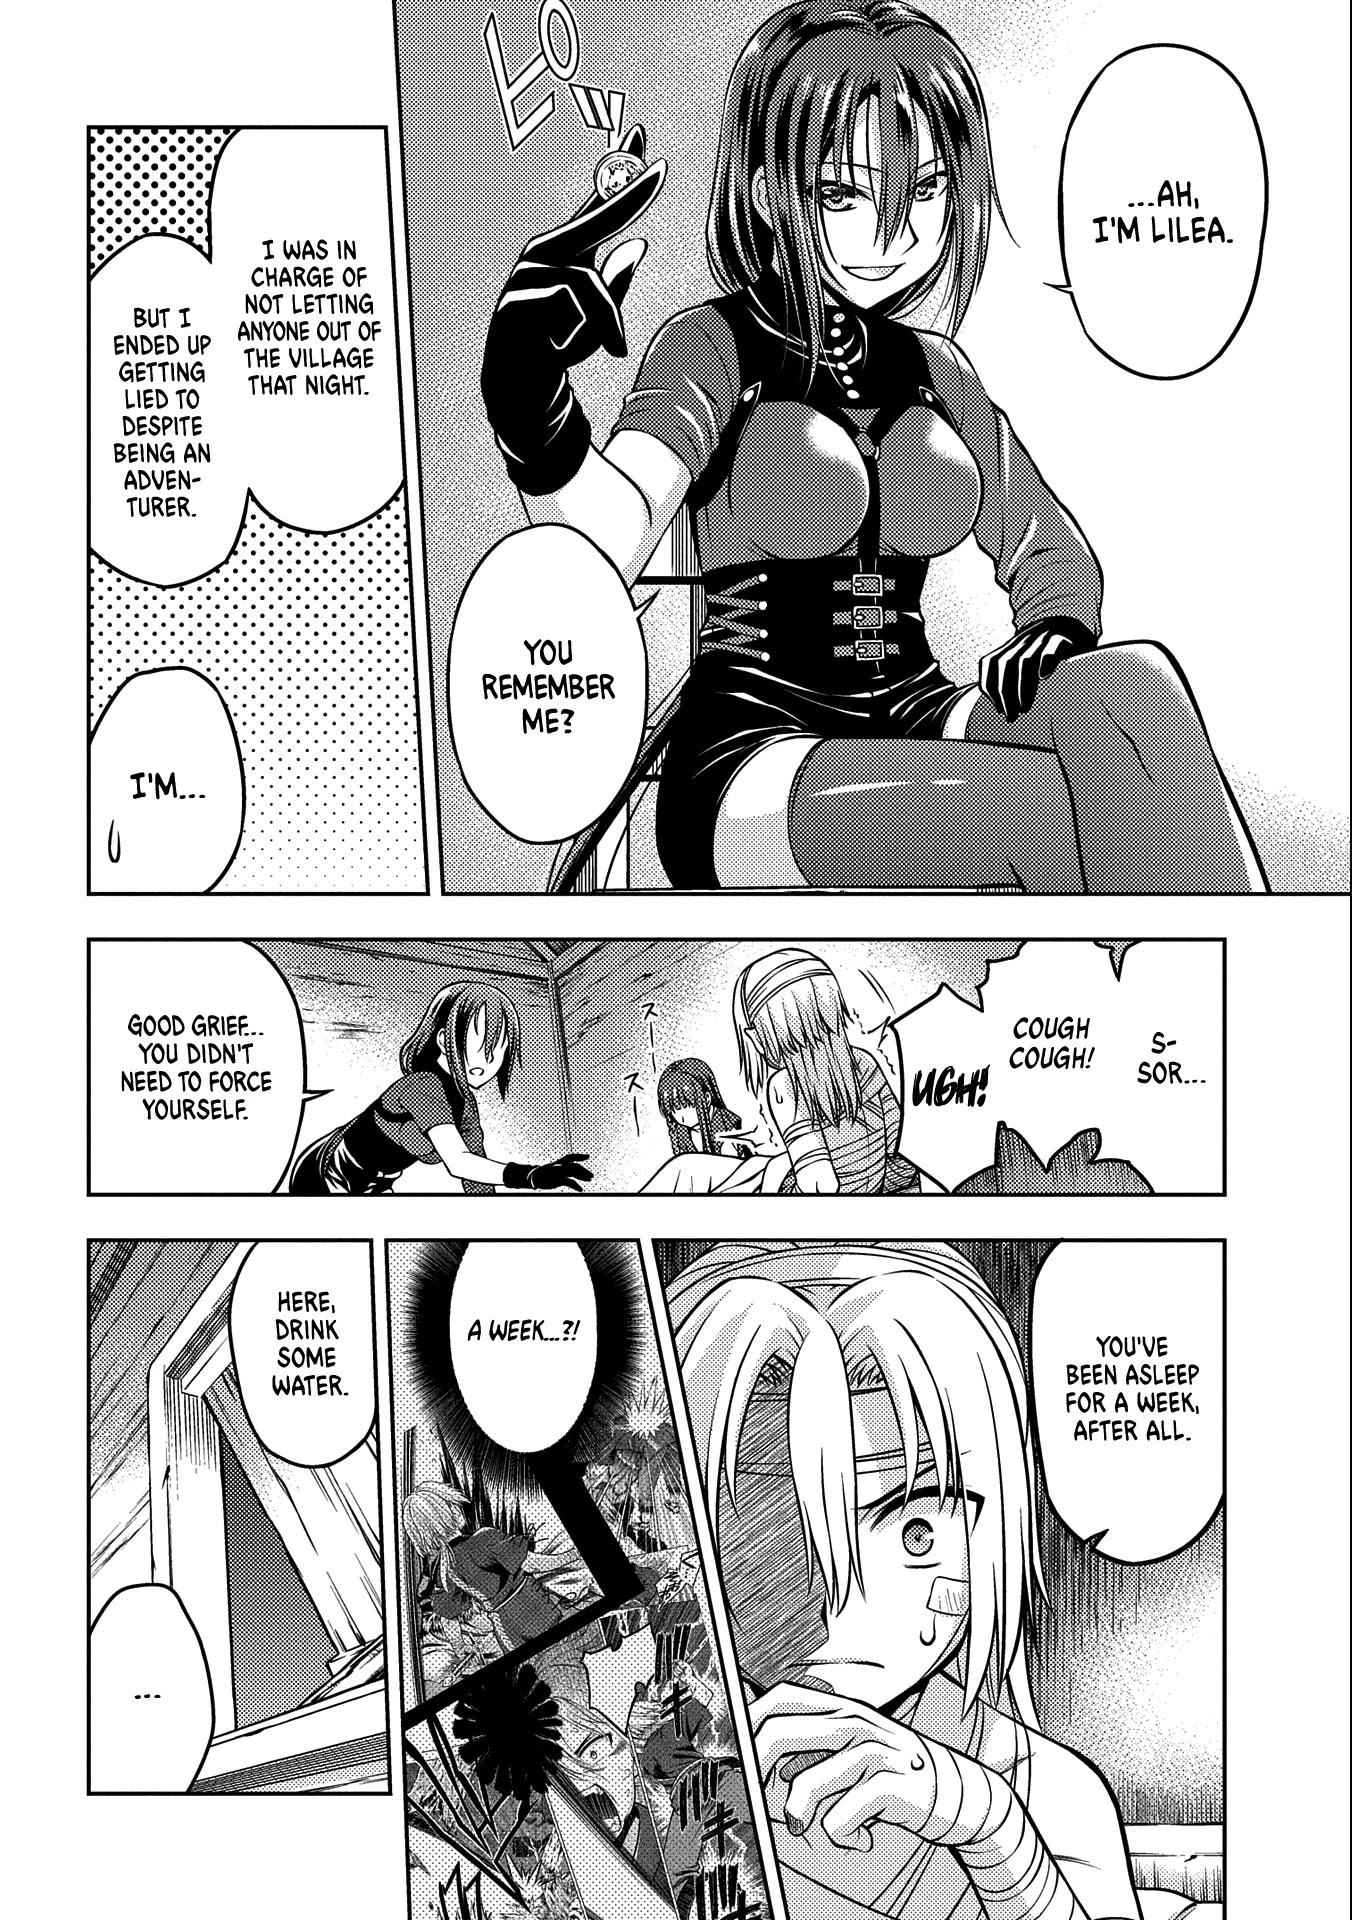Bubble: (227, 123, 416, 536), (1054, 35, 1274, 380), (1026, 1232, 1232, 1572), (443, 518, 654, 846), (80, 932, 312, 1203), (80, 227, 225, 591), (80, 660, 258, 901), (225, 1232, 379, 1474), (446, 1232, 603, 1459), (80, 1575, 219, 1797), (1128, 931, 1233, 1201), (1001, 935, 1121, 1172), (884, 980, 999, 1209)
